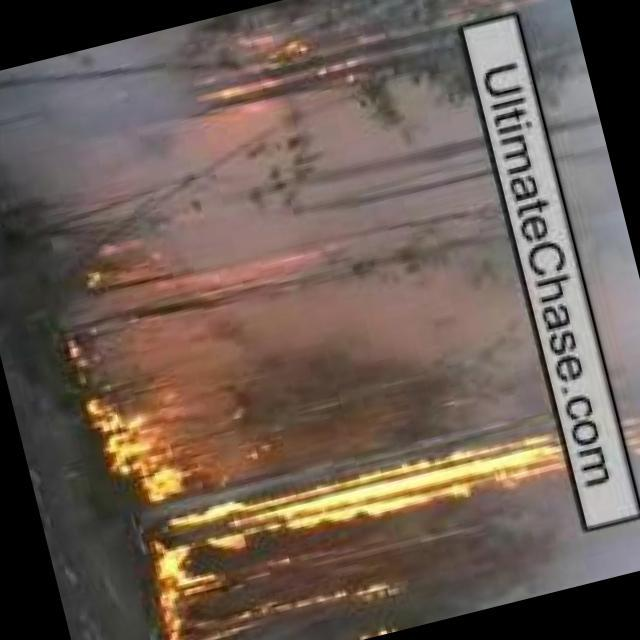Fire: (127, 413, 640, 594), (80, 388, 192, 510), (160, 583, 396, 640), (195, 28, 335, 123)
